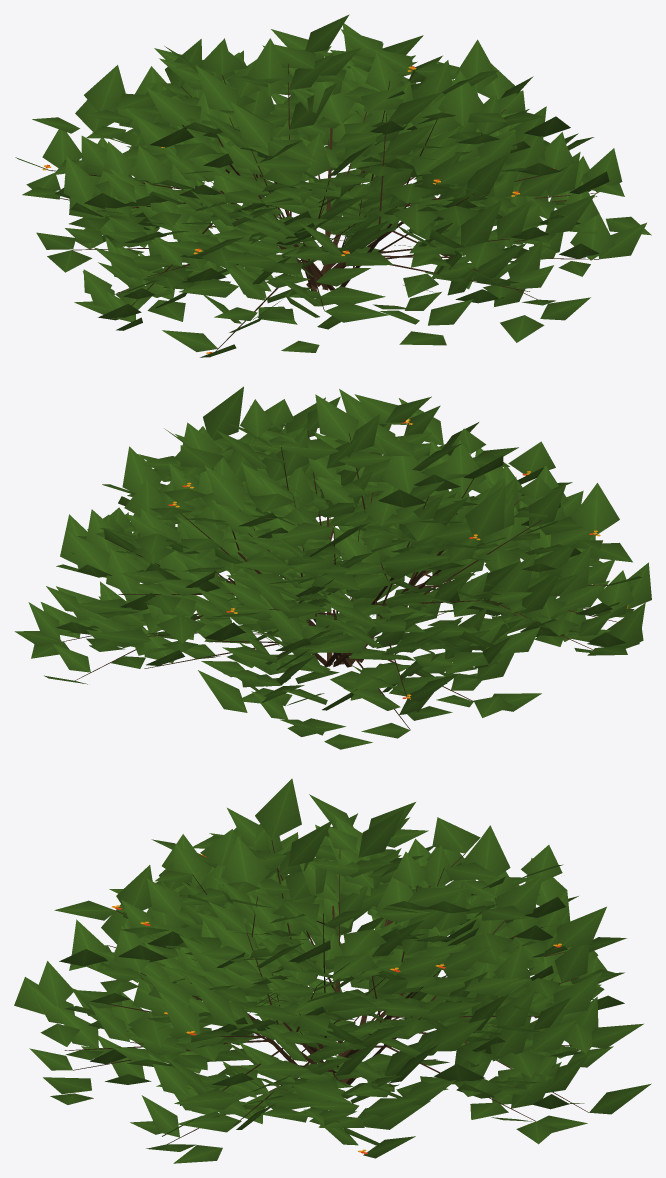
File: Lantana_LOD1.fbx
3 renders of one model, top to bottom at view 1: azimuth 30°, elevation 25°; view 2: azimuth 150°, elevation 25°; view 3: azimuth 270°, elevation 25°, orthographic. The views are drawn at different scales.
Parts seen in each view (by area): view 1: Leaves_Lantana_LOD1; view 2: Leaves_Lantana_LOD1; view 3: Leaves_Lantana_LOD1.
Part boxes in pixels (bbox=[...]): Leaves_Lantana_LOD1: bbox=[15, 14, 651, 357]; Leaves_Lantana_LOD1: bbox=[14, 386, 651, 749]; Leaves_Lantana_LOD1: bbox=[14, 778, 651, 1163].
Size of the model in its own units: 207 by 83.81 by 208.
